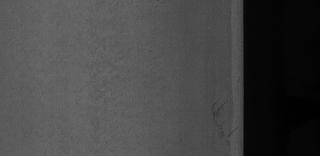silk spot: (45, 18, 168, 151)
water spot: (206, 97, 234, 145)
